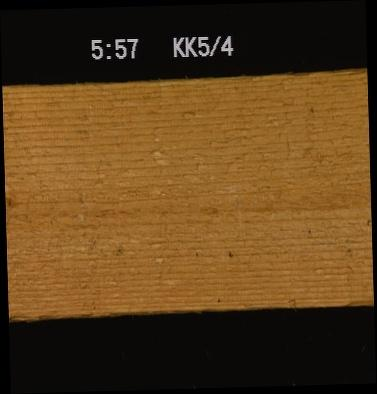small_knot: (5, 190, 15, 211)
wave: (338, 294, 373, 305)
